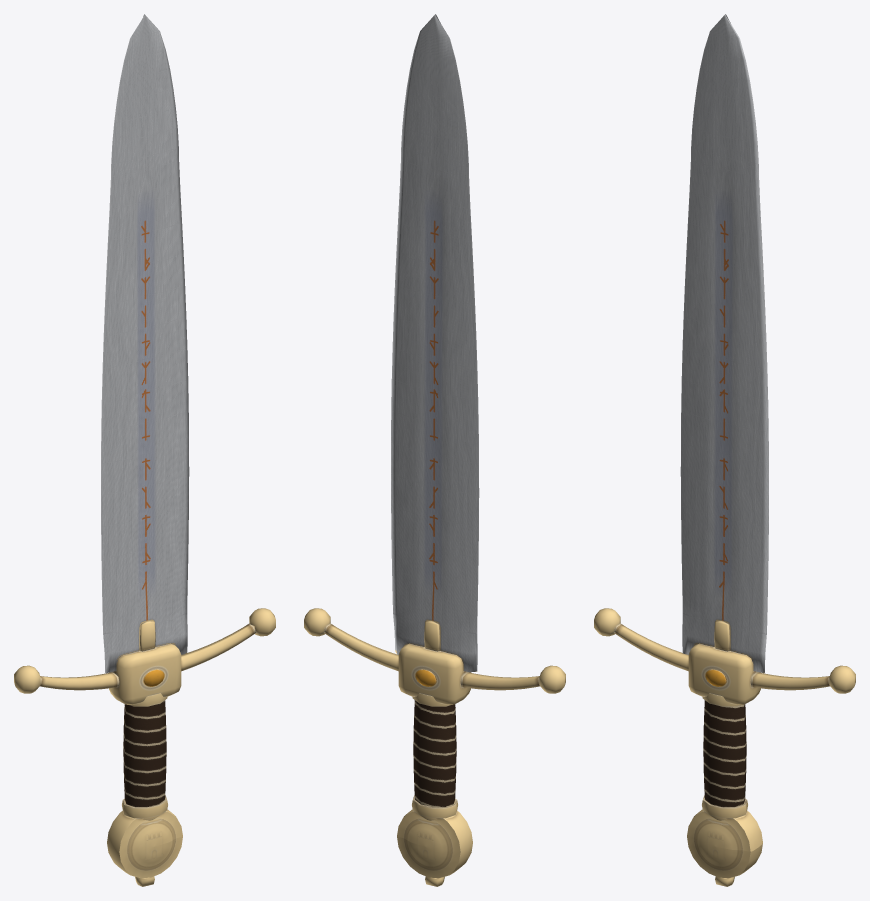
File: SM_Emberoath.fbx
The picture shows the model from 3 angles, left to right: view 1: azimuth 30°, elevation 25°; view 2: azimuth 150°, elevation 25°; view 3: azimuth 330°, elevation 25°; orthographic projection.
Visible parts, largest first — view 1: SM_Emberoath; view 2: SM_Emberoath; view 3: SM_Emberoath.
Part boxes in pixels (x1,y1,x2,y2): SM_Emberoath: [14, 14, 275, 886]; SM_Emberoath: [304, 14, 565, 886]; SM_Emberoath: [594, 14, 855, 886].
Bounding box in the file's own units: 21.14 × 3.1 × 67.75.
